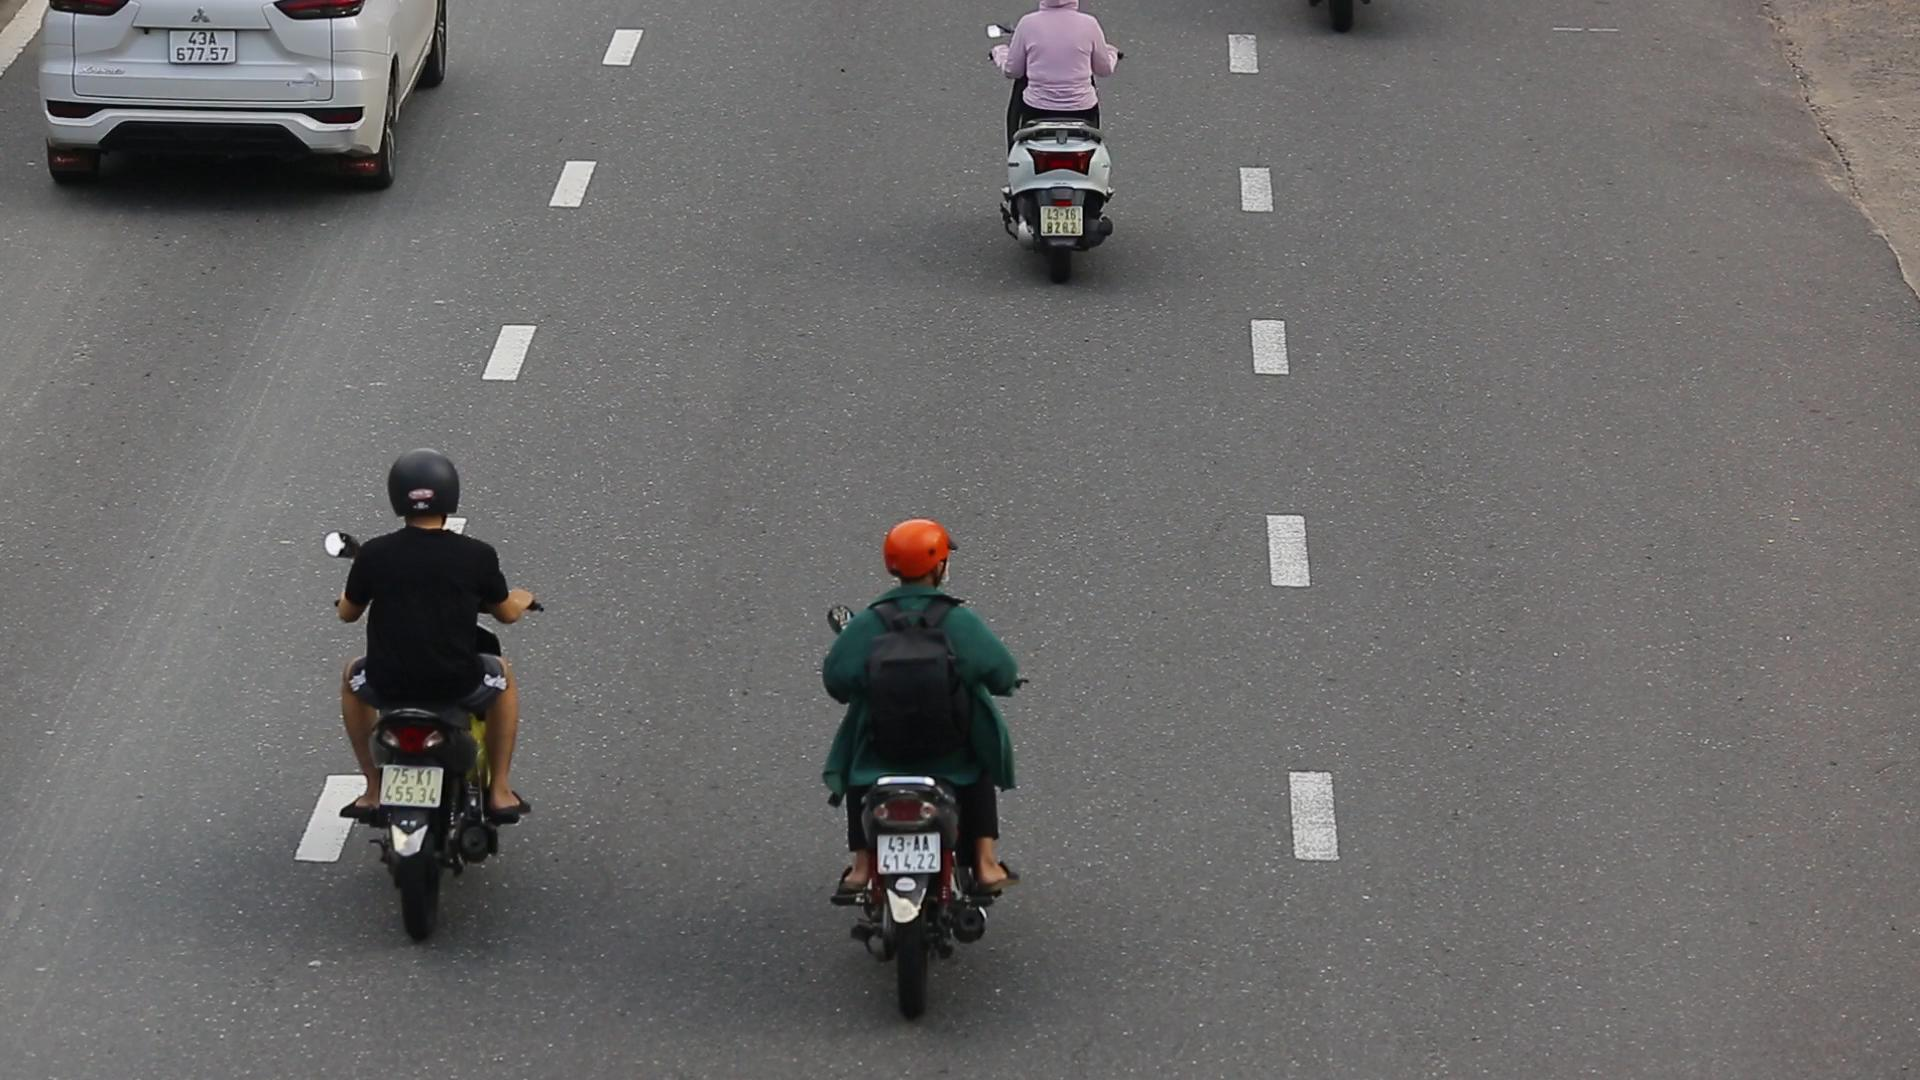motobike: (322, 435, 553, 945), (807, 516, 1033, 1033)
